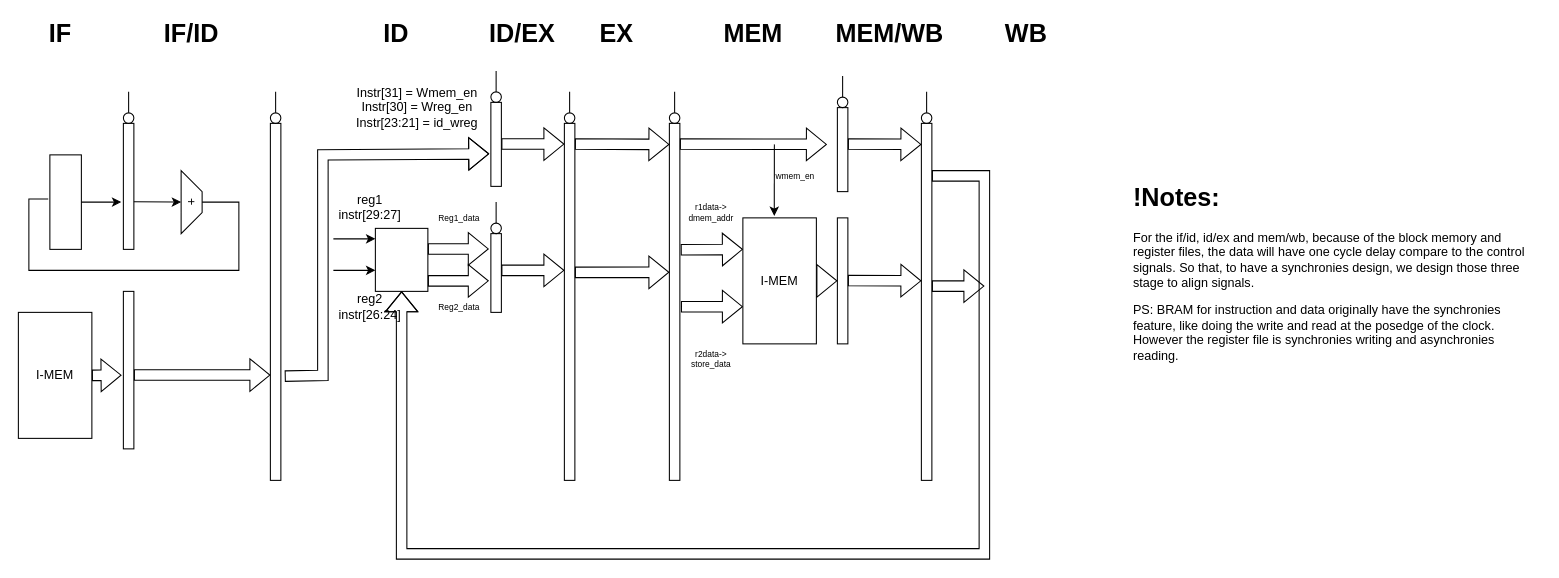
The diagram is 1559 pixels wide and 578 high, and some of its shapes have lost their labels. The centre of each missing label's shape, as x and y in pixels:
PC: pixel 65 201
RF: pixel 401 259
